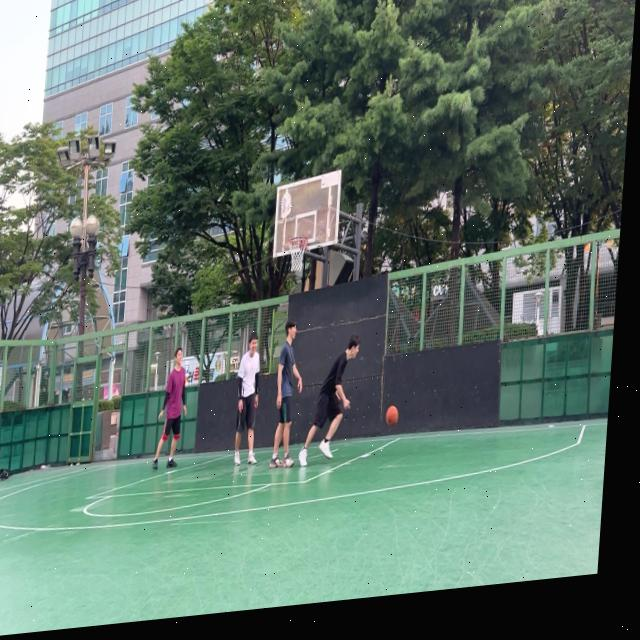basketball: (384, 404, 399, 427)
hoop: (286, 235, 308, 273)
